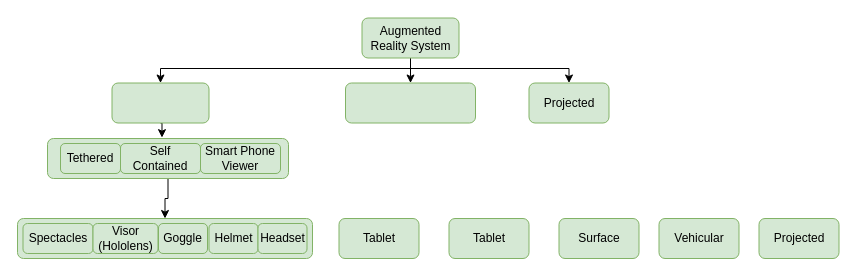
Image size: 857x276. Some labels were removed from this diagram. The shapes that lost their labels are listed below. From the top down, each one's box as (x1, y1, x2, y2) in pixels, then its label:
(111, 82, 209, 123): Head Mounted
(344, 82, 476, 123): Mobile Non-wearable
